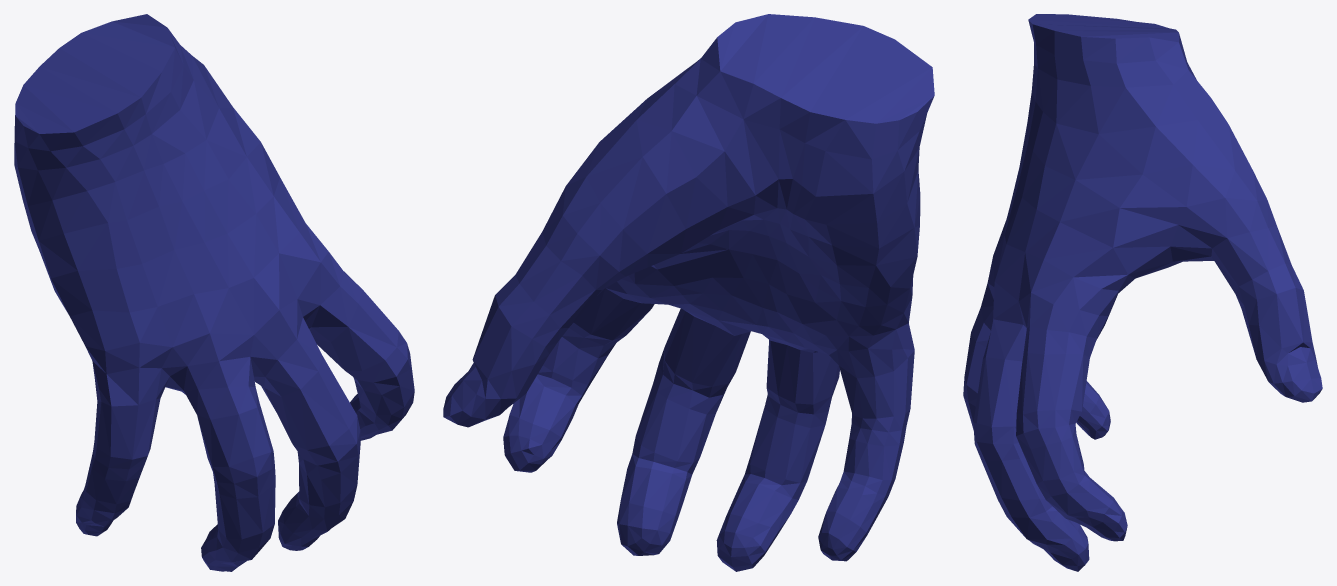
The picture shows the model from 3 angles, left to right: view 1: azimuth 30°, elevation 25°; view 2: azimuth 150°, elevation 25°; view 3: azimuth 270°, elevation 25°; orthographic projection. The views are drawn at different scales.
Bounding box in the file's own units: 0.1245 × 0.1696 × 0.1144.
